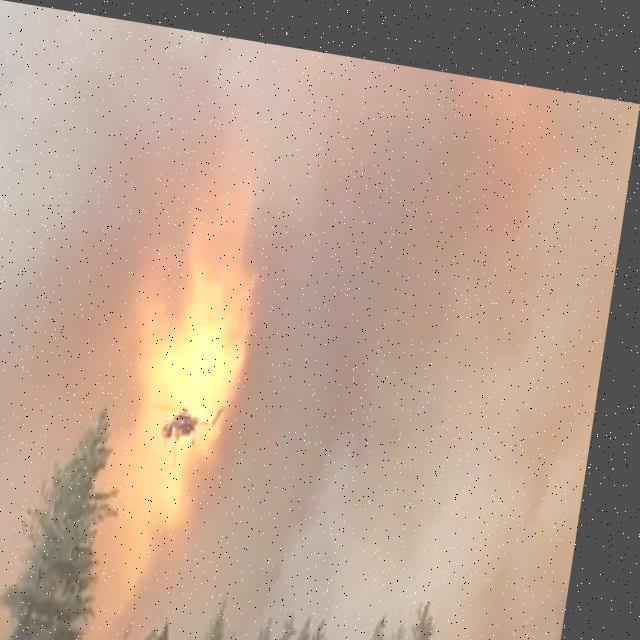Fire: (124, 165, 278, 527)
